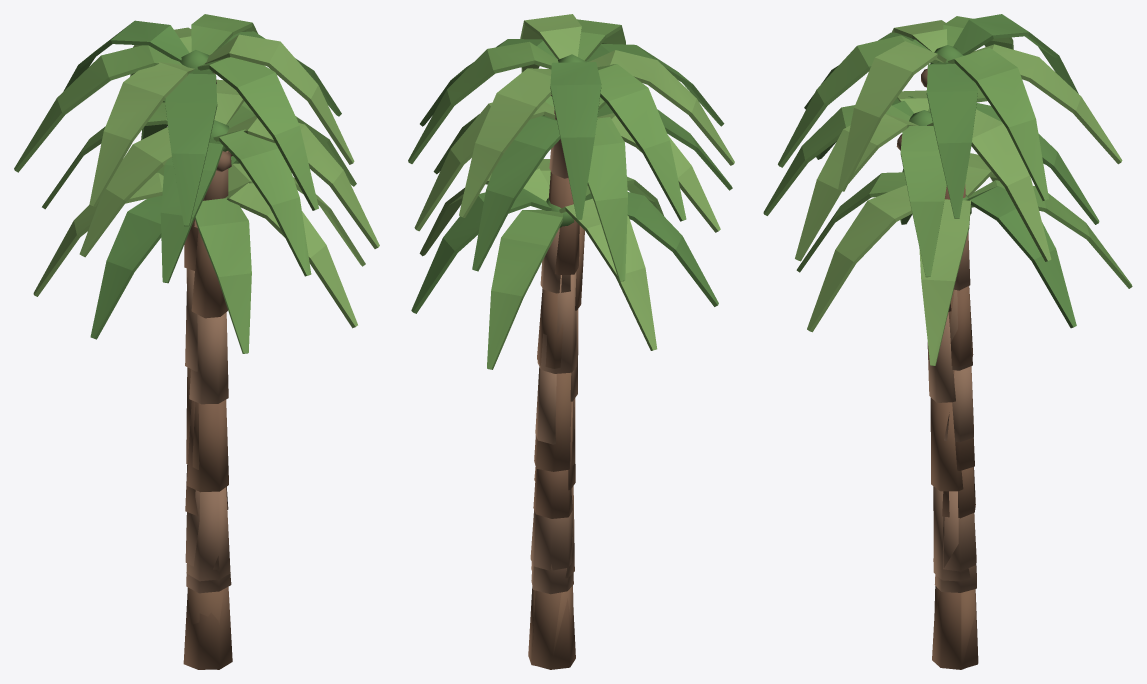
File: tree.palm.glb
The picture shows the model from 3 angles, left to right: view 1: azimuth 30°, elevation 25°; view 2: azimuth 150°, elevation 25°; view 3: azimuth 270°, elevation 25°; orthographic projection.
Parts seen in each view (by area): view 1: tree.palm.v2.canopy, tree.palm.v0.canopy, tree.palm.v1.canopy, tree.palm.v0.trunk, tree.palm.v2.trunk, tree.palm.v1.trunk; view 2: tree.palm.v2.canopy, tree.palm.v1.canopy, tree.palm.v0.canopy, tree.palm.v2.trunk, tree.palm.v1.trunk, tree.palm.v0.trunk; view 3: tree.palm.v2.canopy, tree.palm.v0.canopy, tree.palm.v1.canopy, tree.palm.v0.trunk, tree.palm.v1.trunk, tree.palm.v2.trunk.
Boxes of the visible parts, x1,y1,x2,y2 form: tree.palm.v2.canopy: (14, 14, 354, 226); tree.palm.v0.canopy: (42, 79, 379, 283); tree.palm.v1.canopy: (33, 156, 365, 353); tree.palm.v0.trunk: (186, 151, 230, 624); tree.palm.v2.trunk: (183, 219, 232, 669); tree.palm.v1.trunk: (185, 268, 231, 669); tree.palm.v2.canopy: (408, 14, 734, 221); tree.palm.v1.canopy: (411, 159, 718, 369); tree.palm.v0.canopy: (414, 96, 732, 281); tree.palm.v2.trunk: (530, 110, 579, 669); tree.palm.v1.trunk: (528, 228, 573, 653); tree.palm.v0.trunk: (528, 185, 587, 665); tree.palm.v2.canopy: (778, 14, 1122, 218); tree.palm.v0.canopy: (763, 85, 1099, 277); tree.palm.v1.canopy: (796, 153, 1132, 365); tree.palm.v0.trunk: (927, 303, 977, 668); tree.palm.v1.trunk: (934, 232, 976, 669); tree.palm.v2.trunk: (932, 184, 978, 669).
Size of the model in its own units: 2.06 by 3.99 by 2.16.
